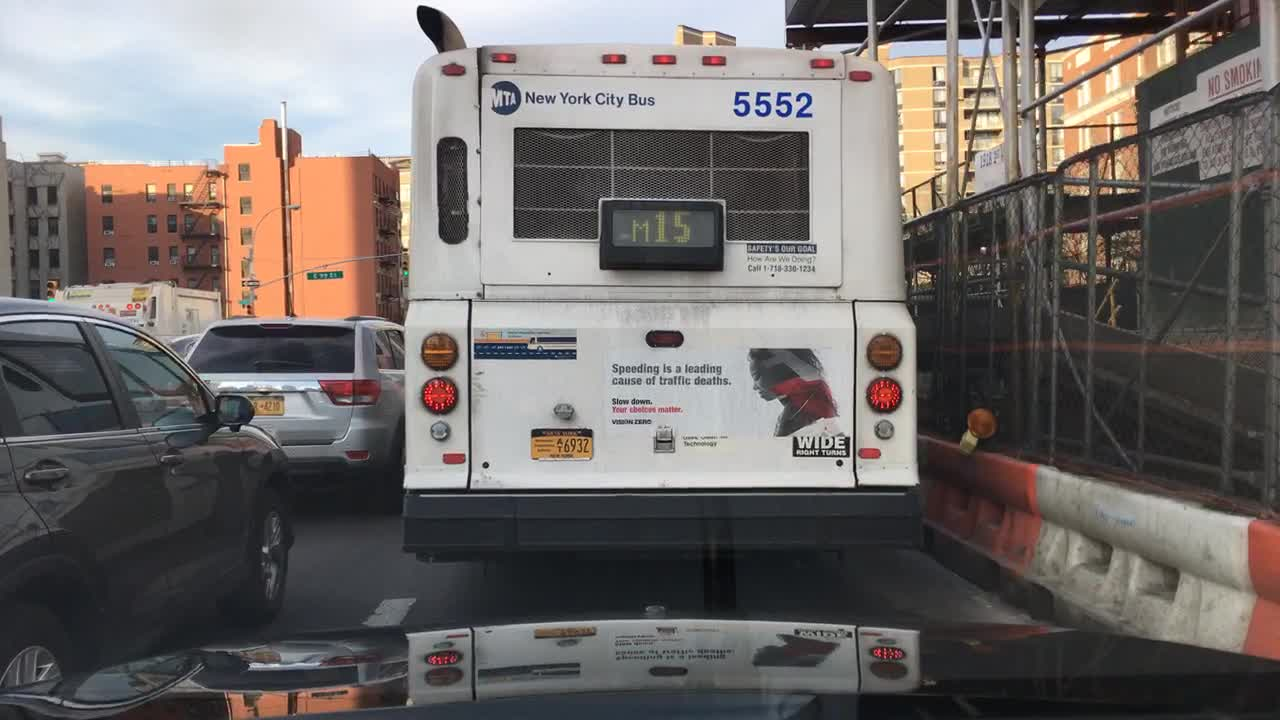bus: (400, 3, 925, 590)
car: (0, 296, 296, 692), (185, 314, 403, 497), (163, 332, 199, 369)
traffic light: (42, 281, 57, 306), (400, 255, 408, 277)
traffic sign: (306, 270, 343, 278), (236, 297, 253, 306), (239, 279, 257, 286)
truck: (56, 283, 224, 340)
